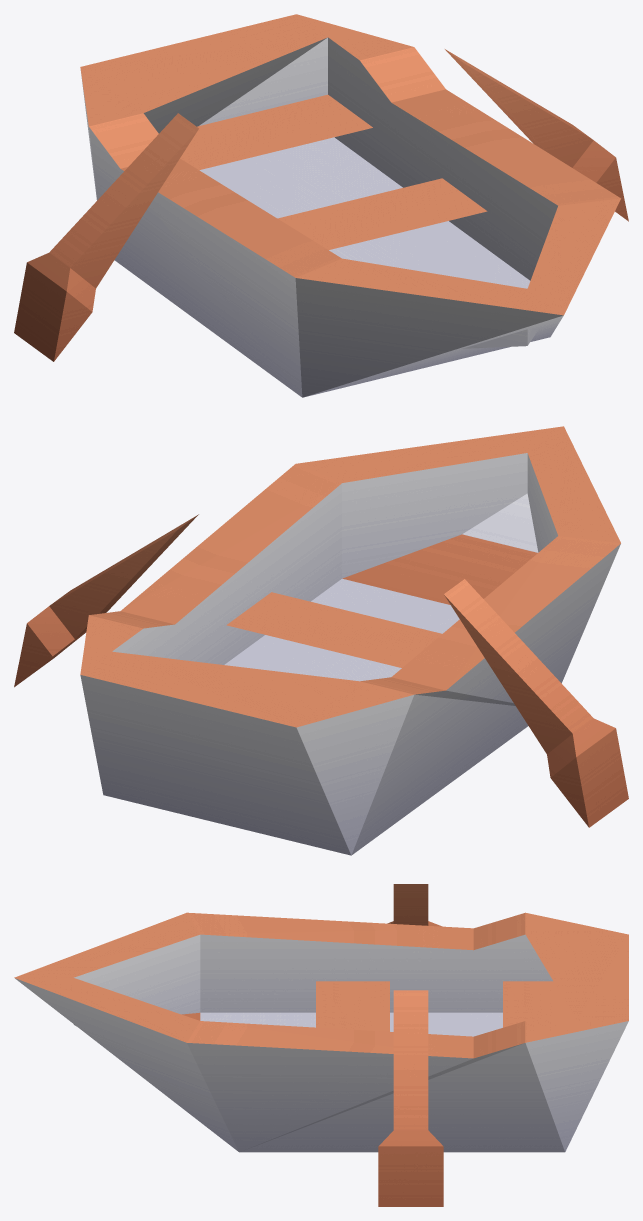
File: boat-row-l.glb
3 views of the same model, one above another, from view 1: azimuth 30°, elevation 25°; view 2: azimuth 150°, elevation 25°; view 3: azimuth 270°, elevation 25° (orthographic). The views are drawn at different scales.
Visible parts, largest first — view 1: boat-row-large, paddles; view 2: boat-row-large, paddles; view 3: boat-row-large, paddles.
Part boxes in pixels (<box>): boat-row-large: <box>80,14,620,397</box>; paddles: <box>14,49,628,361</box>; boat-row-large: <box>80,426,620,855</box>; paddles: <box>14,514,628,827</box>; boat-row-large: <box>14,912,628,1152</box>; paddles: <box>378,884,443,1206</box>.
Bounding box in the file's own units: 2.52 × 0.8477 × 2.85.
1 material, 1 textured.
